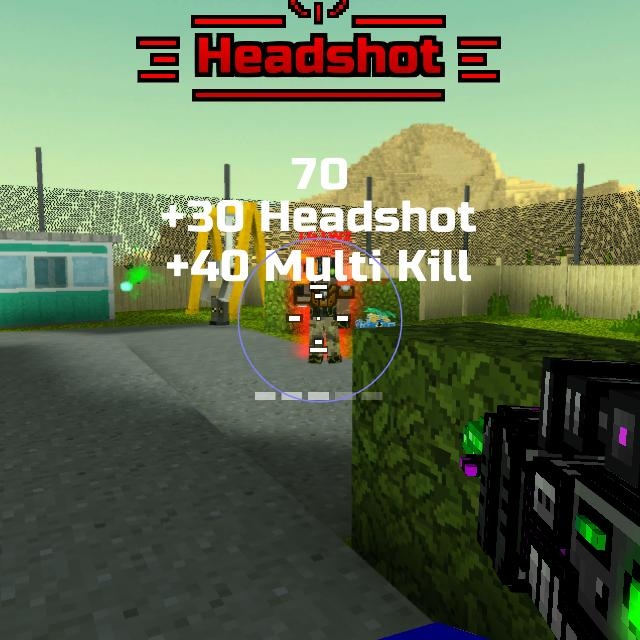Enemy: (293, 256, 355, 365)
